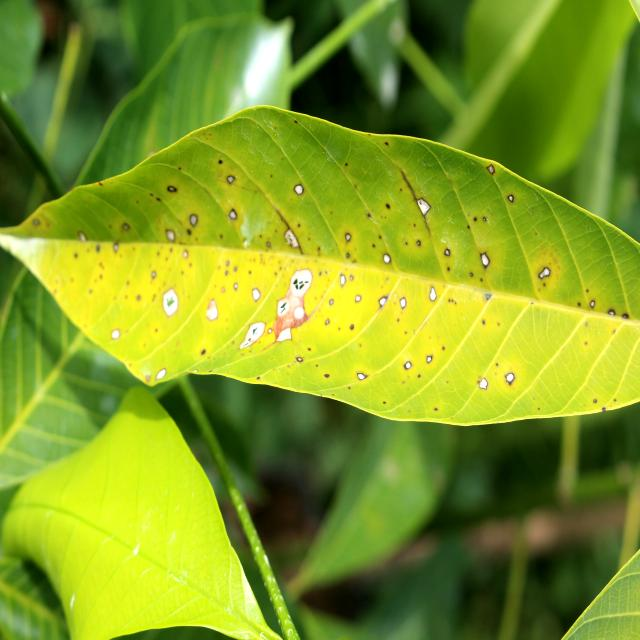Colletotrichum: (480, 251, 490, 269), (538, 268, 550, 280), (293, 183, 304, 196), (166, 230, 176, 243), (110, 328, 120, 341), (252, 288, 261, 302), (429, 286, 437, 301), (479, 378, 488, 390), (189, 214, 198, 226), (378, 296, 388, 306), (382, 253, 391, 264), (506, 372, 514, 384), (229, 208, 237, 220), (357, 372, 367, 381), (487, 164, 495, 175), (166, 185, 178, 192), (404, 361, 412, 370), (400, 297, 406, 308), (345, 232, 351, 242), (227, 176, 234, 184), (508, 194, 514, 203), (355, 294, 361, 303), (608, 310, 616, 316), (445, 248, 450, 257), (329, 298, 334, 306), (590, 300, 595, 307), (427, 356, 432, 363), (296, 357, 303, 362)
